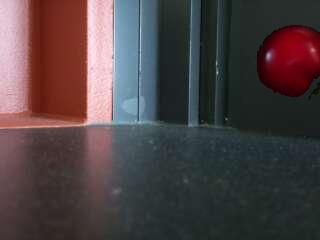Tomato: (257, 23, 320, 98)
